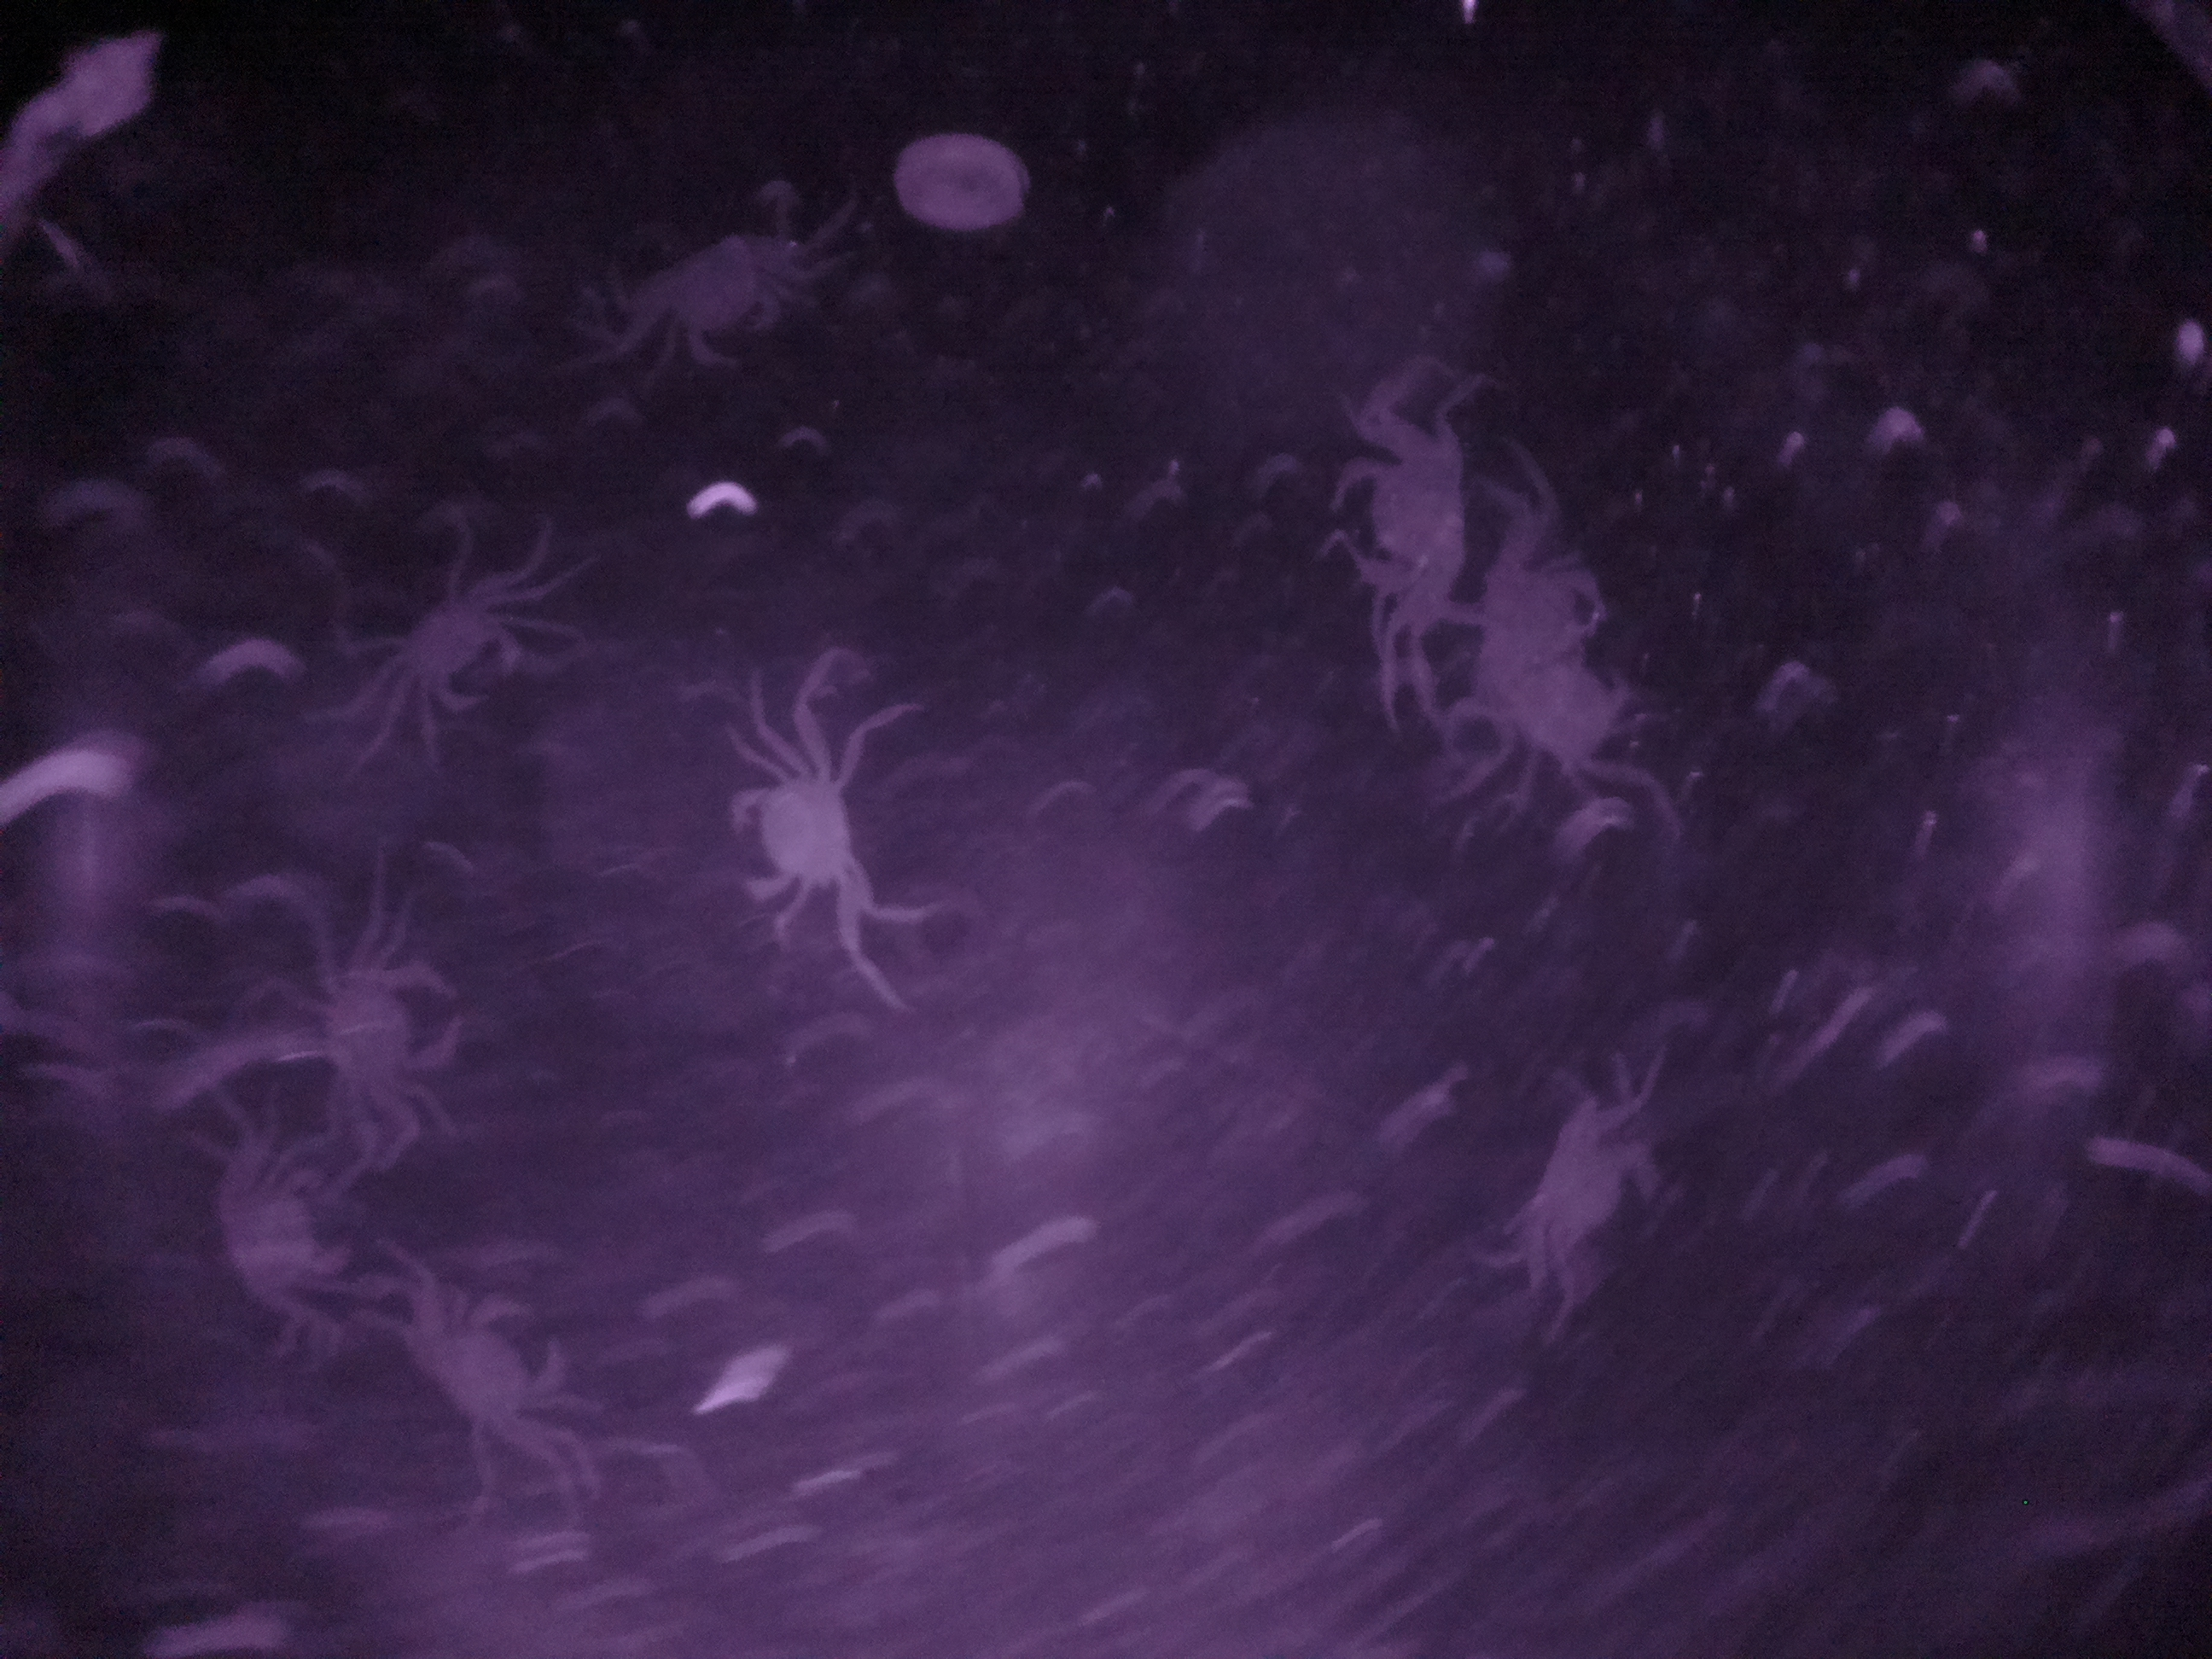Crab: (383, 1265, 606, 1476), (279, 922, 493, 1126), (1313, 394, 1474, 645), (728, 725, 899, 922), (373, 552, 542, 735)
